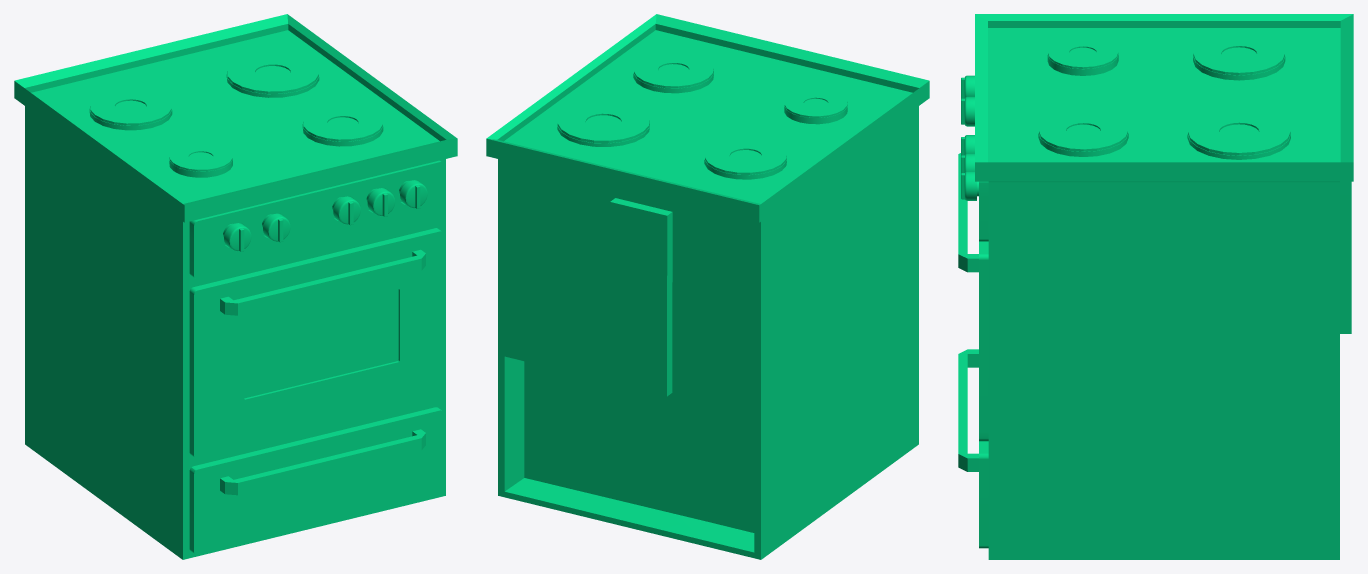
Rendered from horno.fbx.
3 renders of one model, left to right at view 1: azimuth 30°, elevation 25°; view 2: azimuth 150°, elevation 25°; view 3: azimuth 270°, elevation 25°, orthographic. The views are drawn at different scales.
Visible parts, largest first — view 1: horno; view 2: horno; view 3: horno.
Boxes of the visible parts, x1,y1,x2,y2 form: horno: (14, 14, 457, 559); horno: (486, 14, 929, 559); horno: (958, 14, 1353, 559).
Size of the model in its own units: 1.57 by 1.98 by 1.77.
